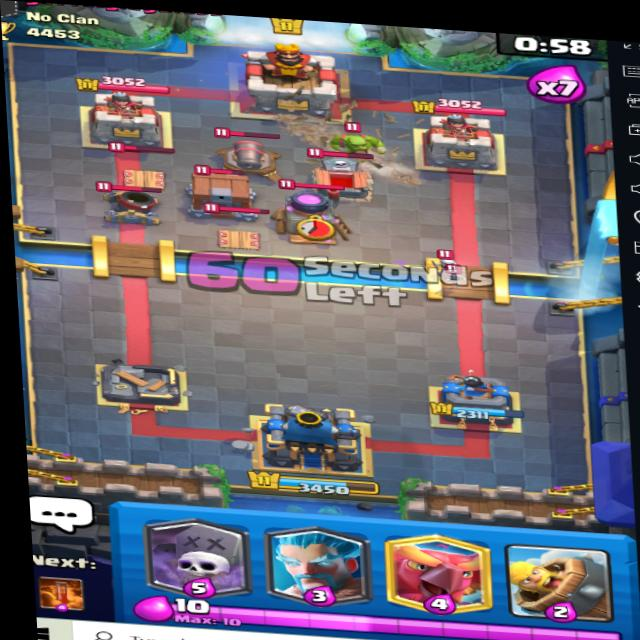brawler: (321, 121, 387, 166)
cannon: (206, 122, 297, 187)
furnace: (265, 176, 362, 245)
goblin-cage: (169, 161, 267, 224)
mortar: (90, 174, 166, 231)
skeleton: (439, 261, 466, 288), (432, 249, 461, 274)
tesla-closed: (105, 133, 178, 194), (202, 200, 278, 253)
tombstone: (305, 144, 381, 198)
trail: (280, 106, 422, 188)
